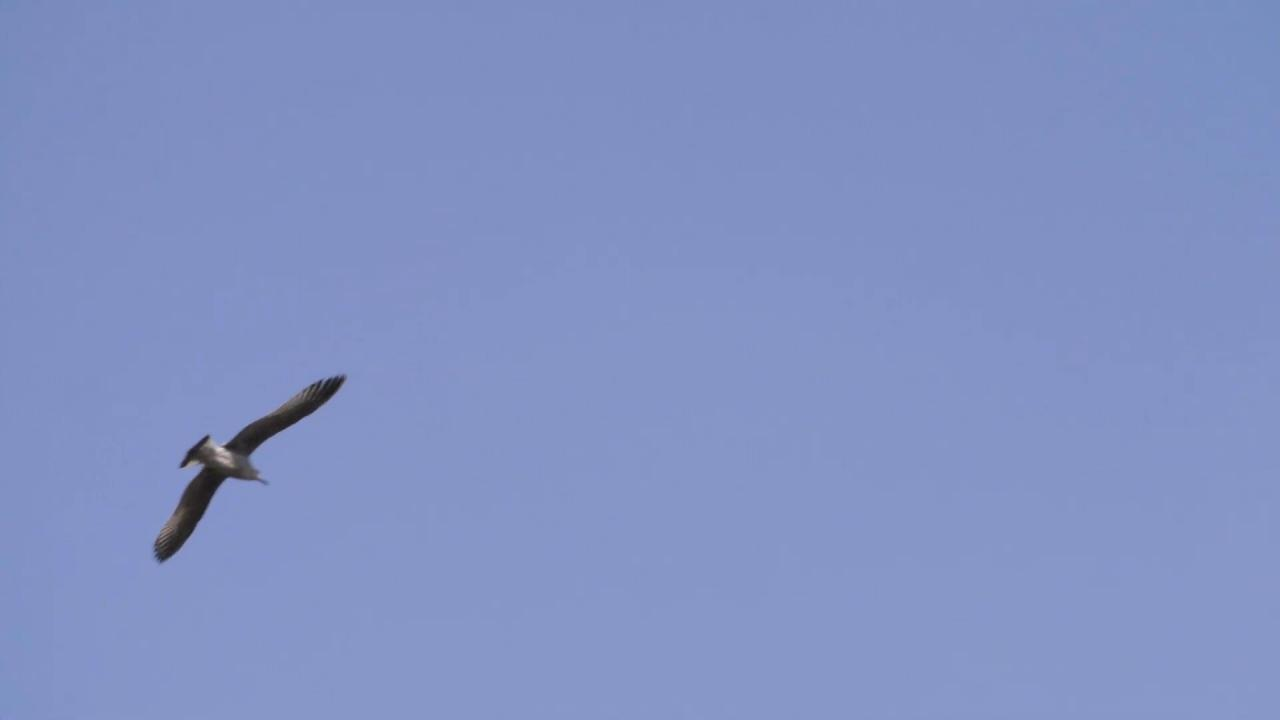Bird: (144, 360, 354, 578)
